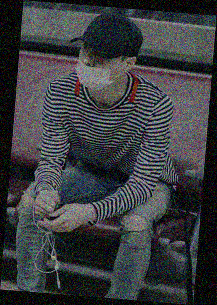mask_weared_incorrect: (77, 44, 121, 90)
